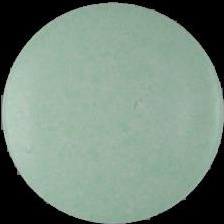55154-7703: (0, 0, 224, 224)
